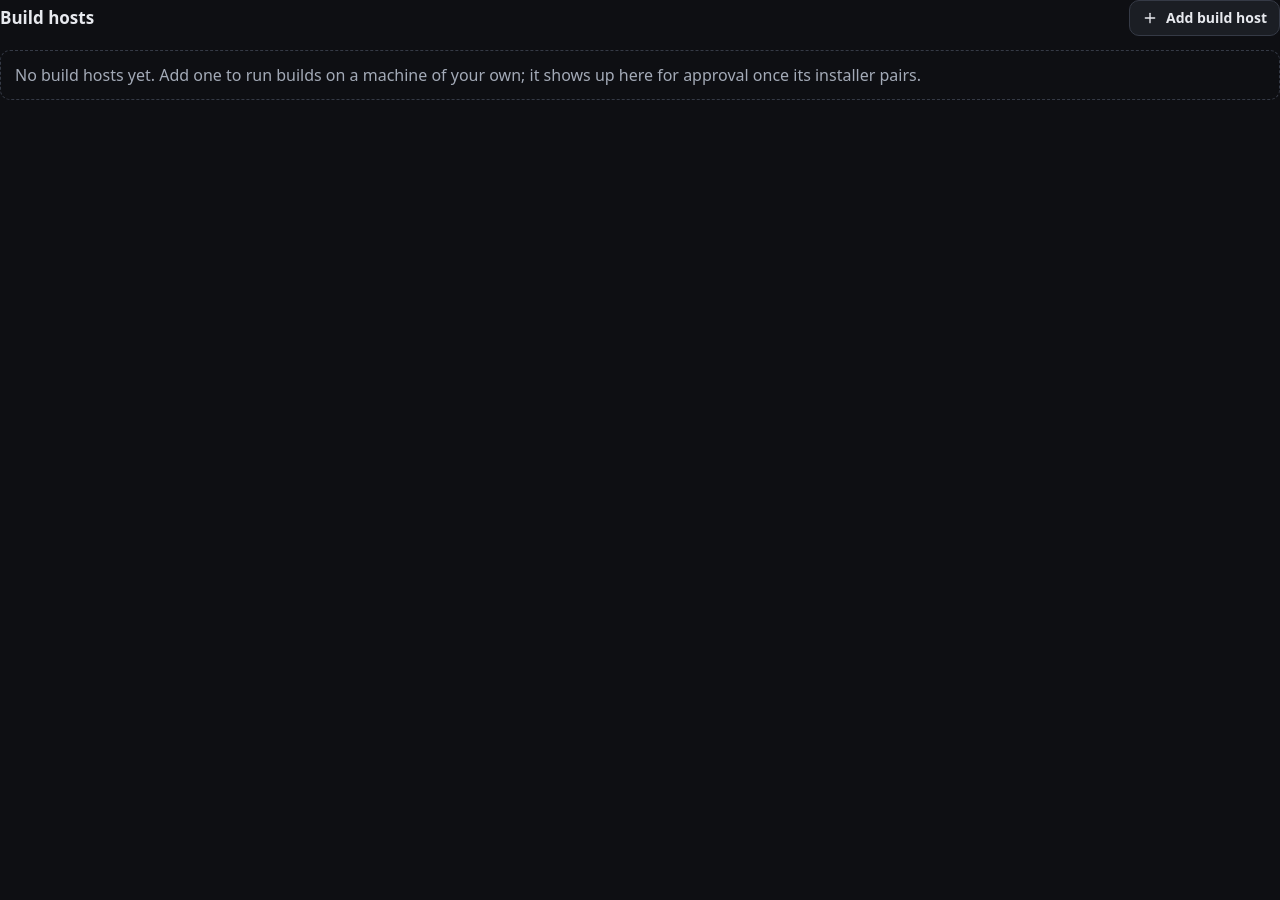
Scenario: ignores duplicate Add activation and issues a fresh code after reopening
Later steps or results of the test are not shown.
Click the button "Add build host" at (1204, 18), box x1=1129 y1=0 x2=1279 y2=36
Click the button "Add build host" at (1204, 18), box x1=1129 y1=0 x2=1279 y2=36
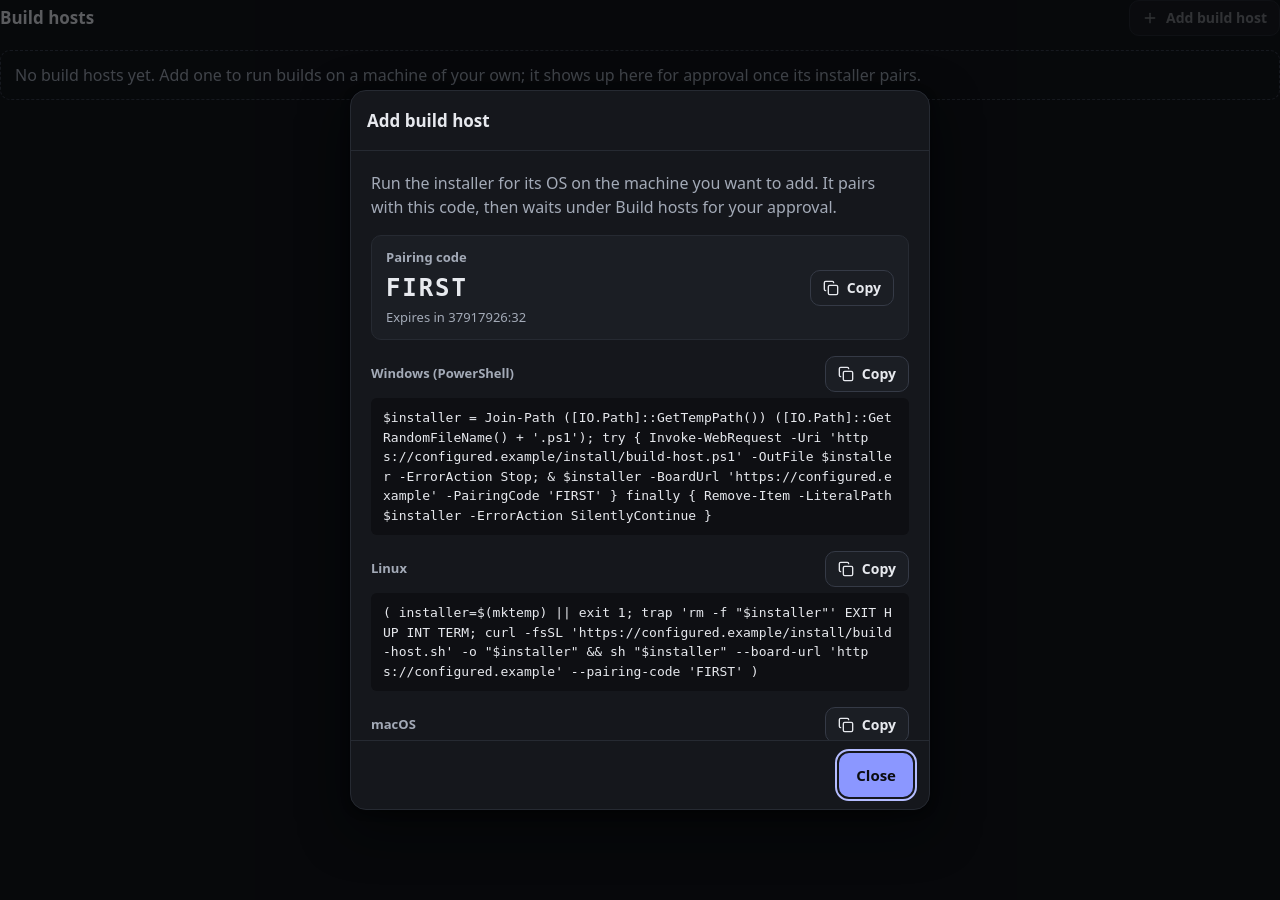
Check: the button "Close" is shown, box x1=839 y1=753 x2=913 y2=797
